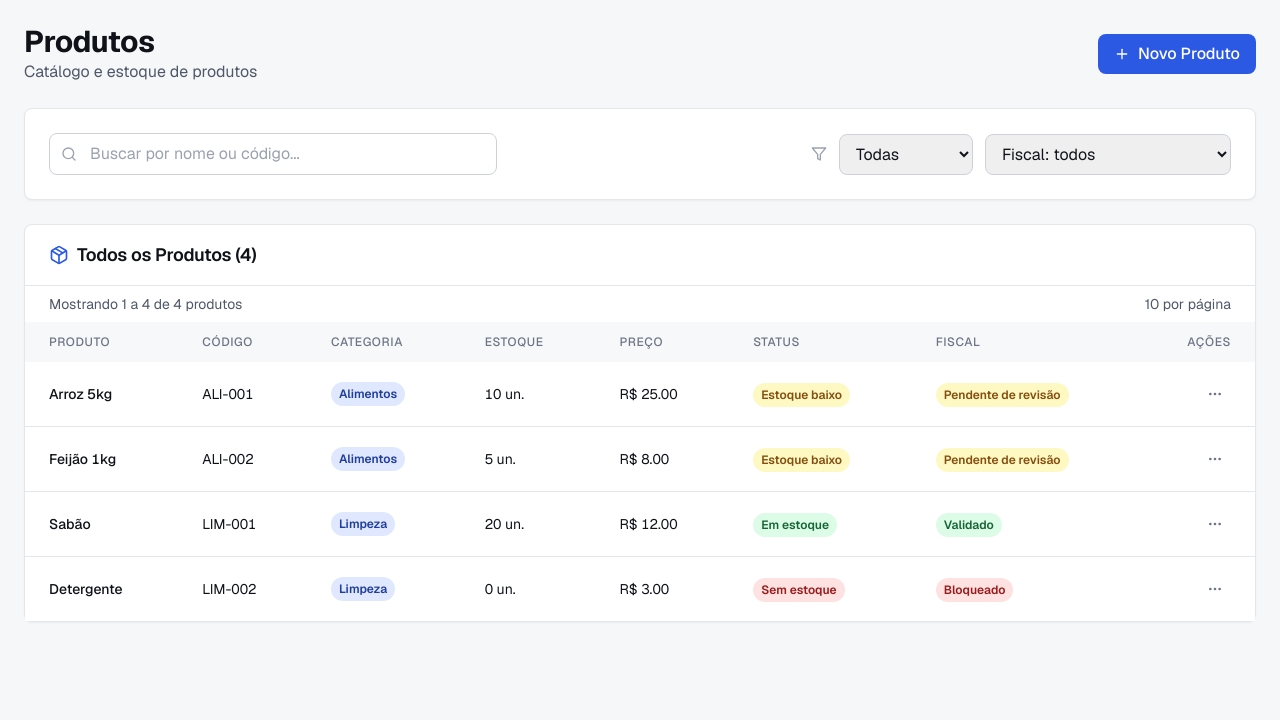
Test: Produtos — status fiscal na listagem › 2. filtro por status fiscal localiza pendentes
The width and height of the screenshot is (1280, 720).
Expected: the text "Arroz 5kg" is shown, [49,385,112,403]
Select "Fiscal: Pendente de revisão" in the dropdown named "Filtrar por status fiscal". click: (1108,154)
box: [985,134,1231,174]
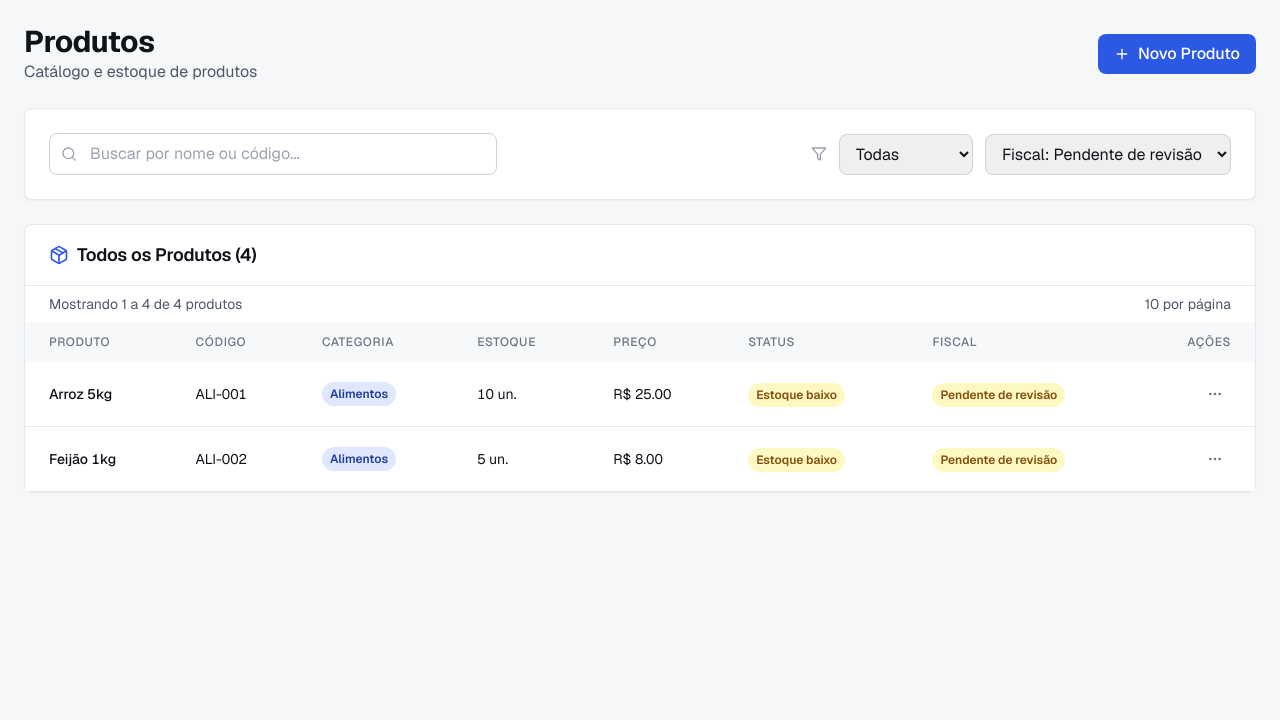
Expected: the text "Arroz 5kg" is shown, [49,385,112,403]
Expected: the text "Sabão" is gone
Expected: the text "Detergente" is gone
